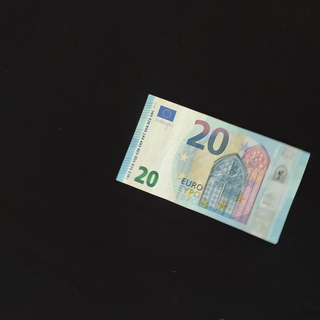20EUROFront: (115, 94, 311, 244)
